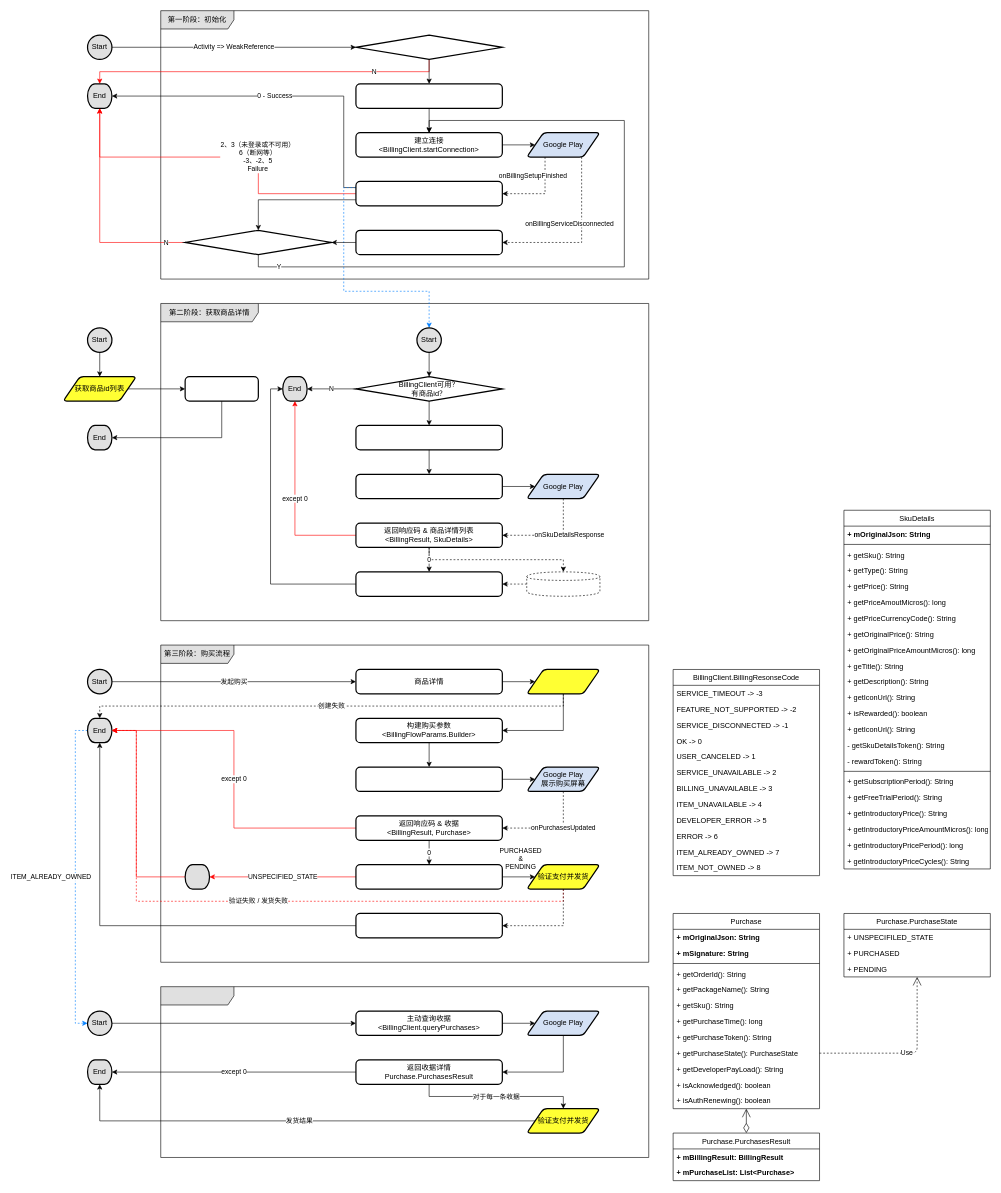
Some shapes in this 1001 by 1193 pixel diagram are drawn without their labels. Here are the shapes that lost their labels. From the top down, the centre of each, then its label:
(429,47): GMS可用？
(429,96): 构建BillingClient <BillingClient.Builder>
(429,193): 返回响应码 <BillingResult>
(258,242): 重新连接？ （配置连续次数）
(429,242): 连接丢失
(221,388): 设置商品id
(429,437): 构建查询参数 <SkuDetailsParams.Builder>
(429,486): 开始查询 <BillingClient.querySkuDetailsAsync>
(429,584): 数据传递给上层 <LiveData>
(563,583): Local Database
(563,681): 创建订单
(429,779): 启动购买流程 <BillingClient.launchBillingFlow>
(197,876): Ignore
(429,876): 收据状态 <Purchase.getPurchaseState>
(429,925): 订单完成
(404,1071): 补充发货阶段
